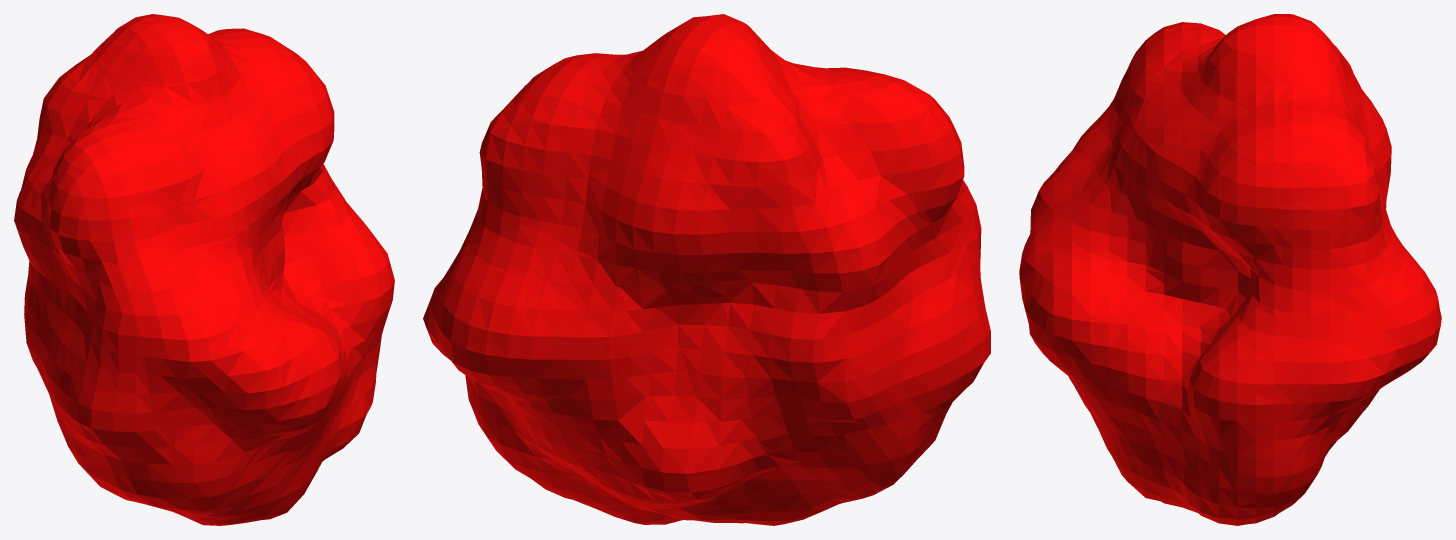
File: grxB_coarse.dae
3 views of the same model, side by side, from view 1: azimuth 30°, elevation 25°; view 2: azimuth 150°, elevation 25°; view 3: azimuth 270°, elevation 25° (orthographic). The views are drawn at different scales.
Parts seen in each view (by area): view 1: grxB; view 2: grxB; view 3: grxB.
Boxes of the visible parts, x1=… form: grxB: x1=14, y1=14, x2=394, y2=525; grxB: x1=423, y1=14, x2=990, y2=525; grxB: x1=1019, y1=14, x2=1441, y2=525.
Bounding box in the file's own units: 45.68 × 54.2 × 45.5.
